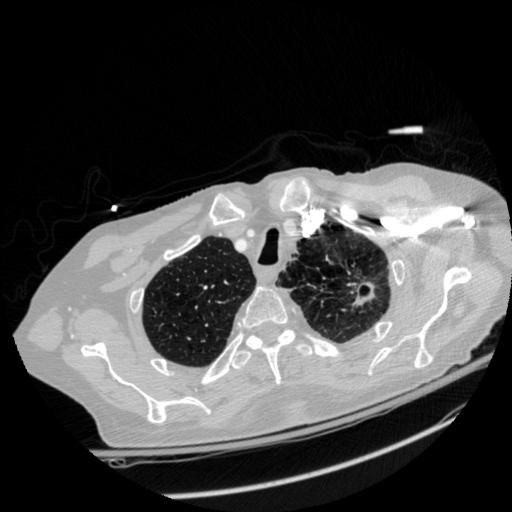nodule: (349, 272, 381, 304)
